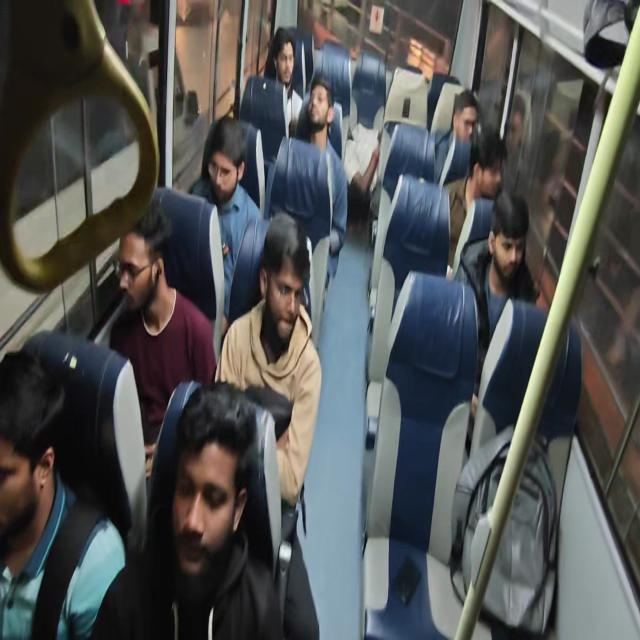person: (156, 362, 258, 591), (0, 387, 63, 601), (100, 206, 173, 350), (209, 109, 253, 208), (272, 230, 308, 350), (349, 86, 386, 201), (493, 189, 537, 285), (473, 126, 508, 198), (302, 74, 340, 138), (449, 92, 481, 147), (277, 48, 307, 102)
